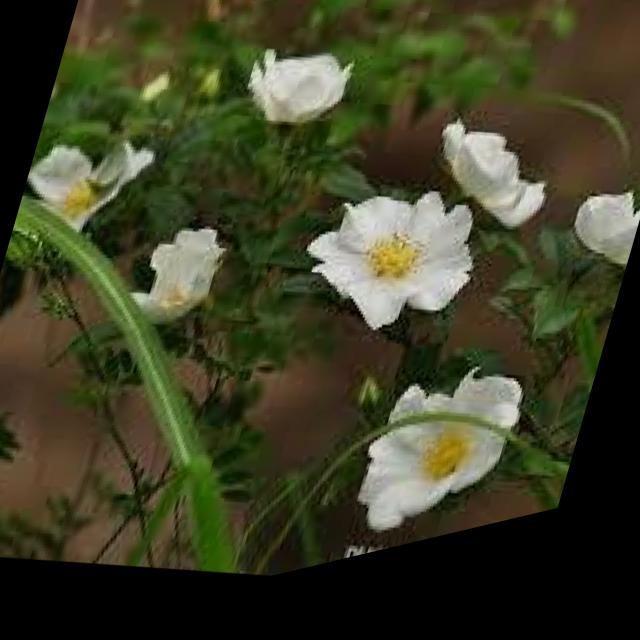Flower: (281, 160, 503, 388), (344, 357, 537, 575), (414, 116, 567, 283), (19, 119, 160, 268), (233, 28, 366, 165), (125, 210, 236, 344), (563, 197, 640, 306)
